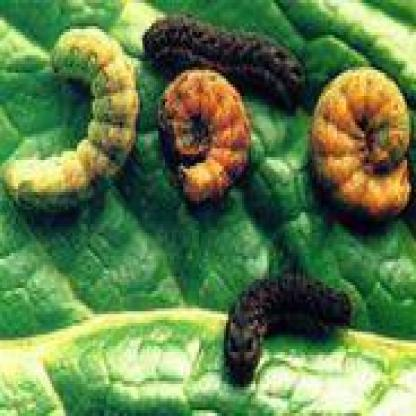armyworm: (4, 27, 146, 221), (312, 60, 416, 228), (141, 10, 317, 107), (218, 273, 356, 382), (153, 69, 255, 197)
